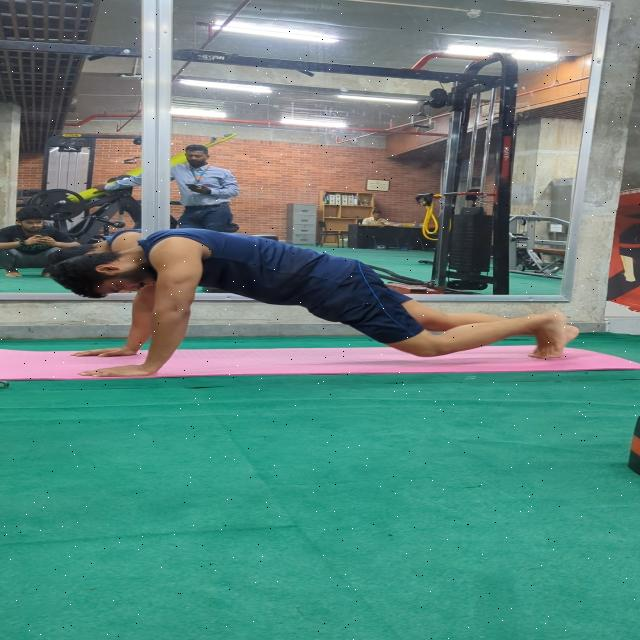Normal_MountainClimbers: (63, 221, 593, 376)
